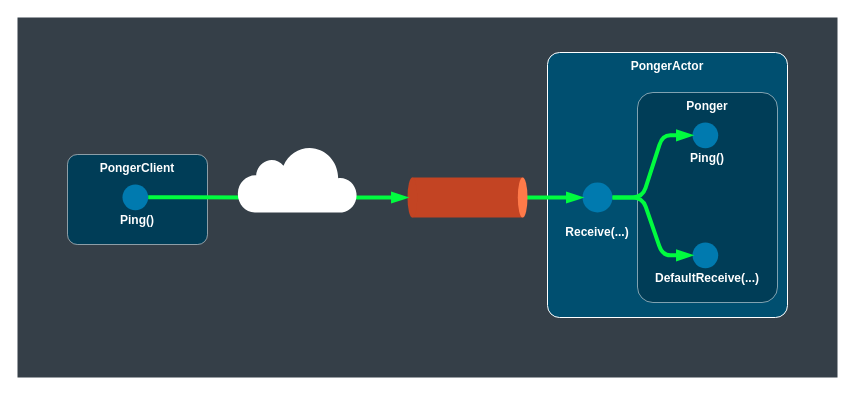
Some shapes in this 854 by 394 pixel diagram are drawn without their labels. The centre of each missing label's shape, as x and y in pixels:
"Mailbox" goes at point 467,197.
"Remote" goes at point 297,178.
